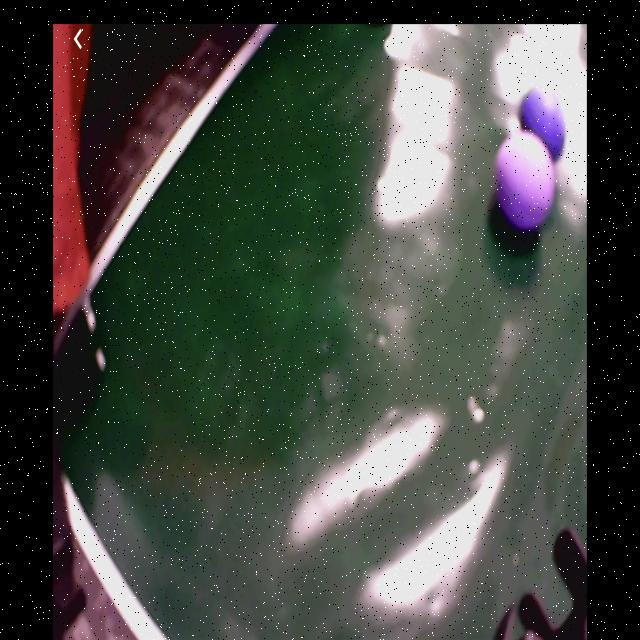ball: (496, 133, 556, 232), (522, 90, 569, 162)
